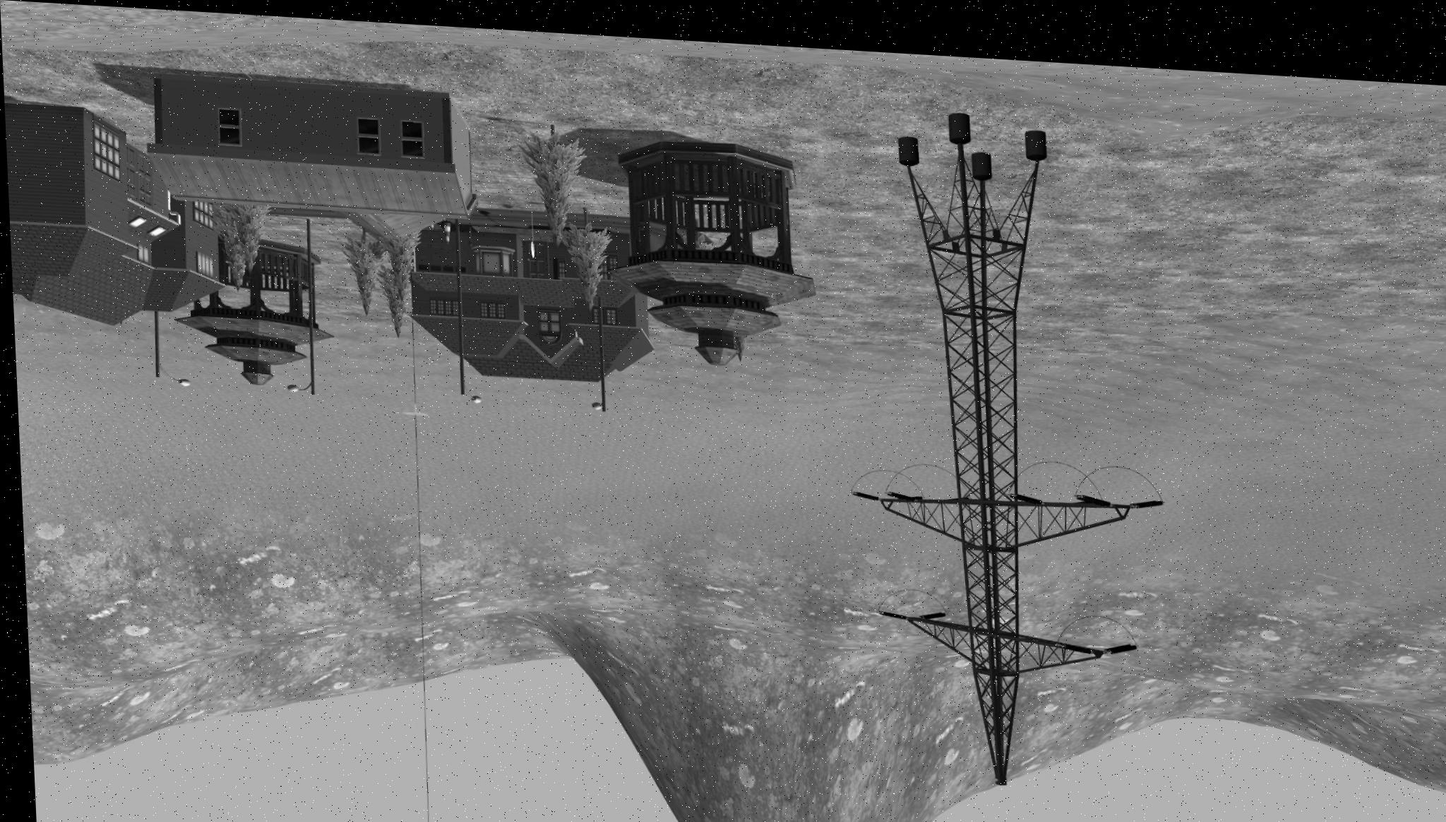tower: (868, 134, 1123, 797)
